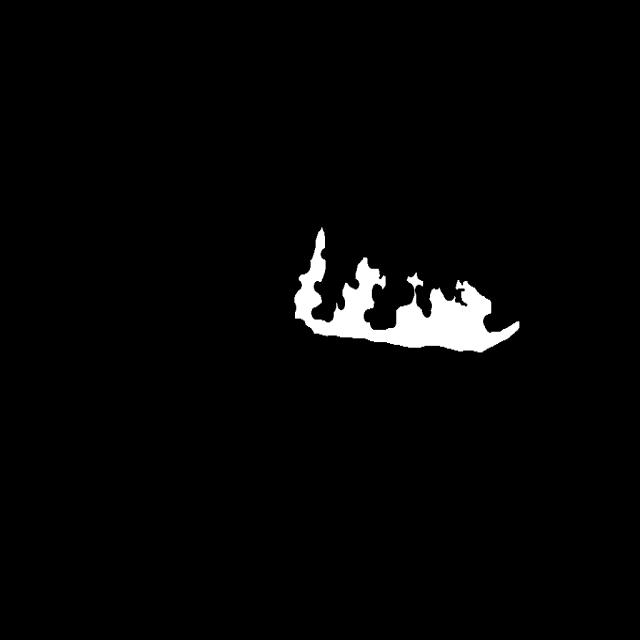fire: (242, 168, 559, 412)
